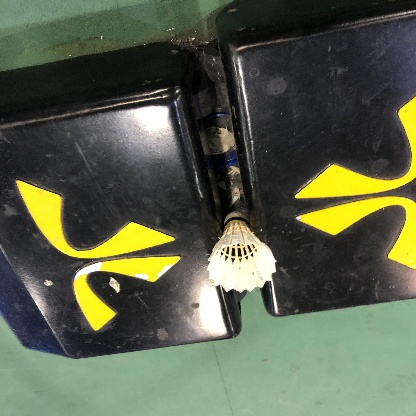ball_single: (206, 211, 276, 293)
